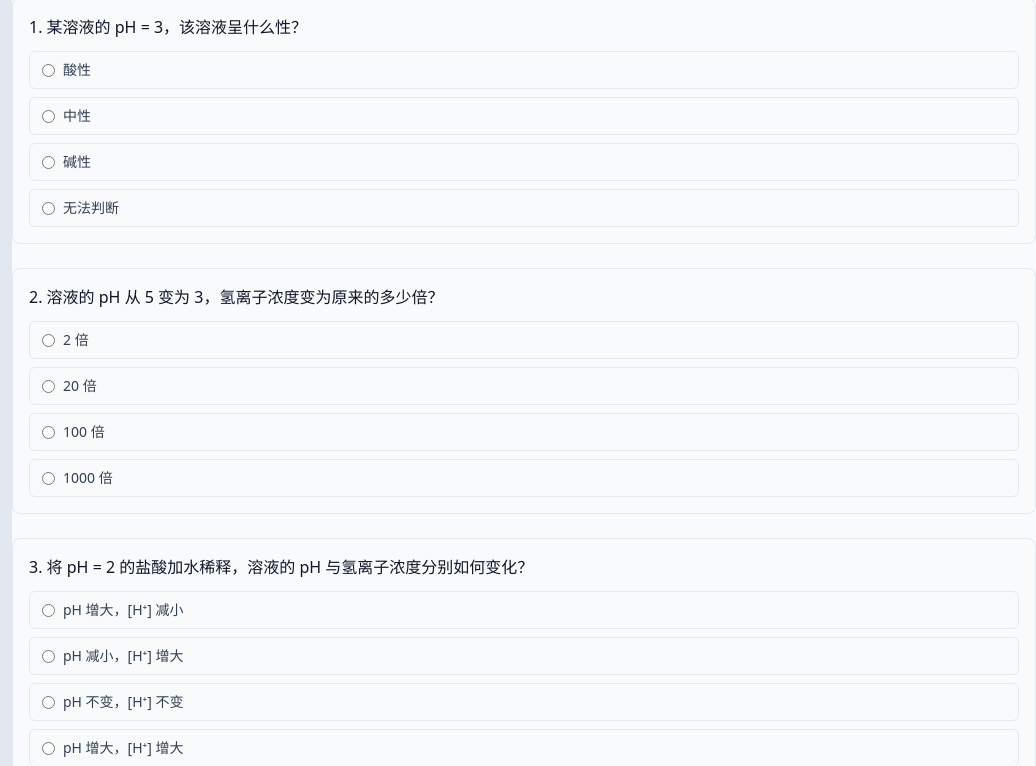
QuizSection 组件 › 全部答对：显示满分、解析，并记录完成状态
The width and height of the screenshot is (1036, 766).
What coordinates should you click on to do the following:
click the radio button labelled "酸性"
I would click on:
 (48, 70)
Its box is [42,64,55,76].
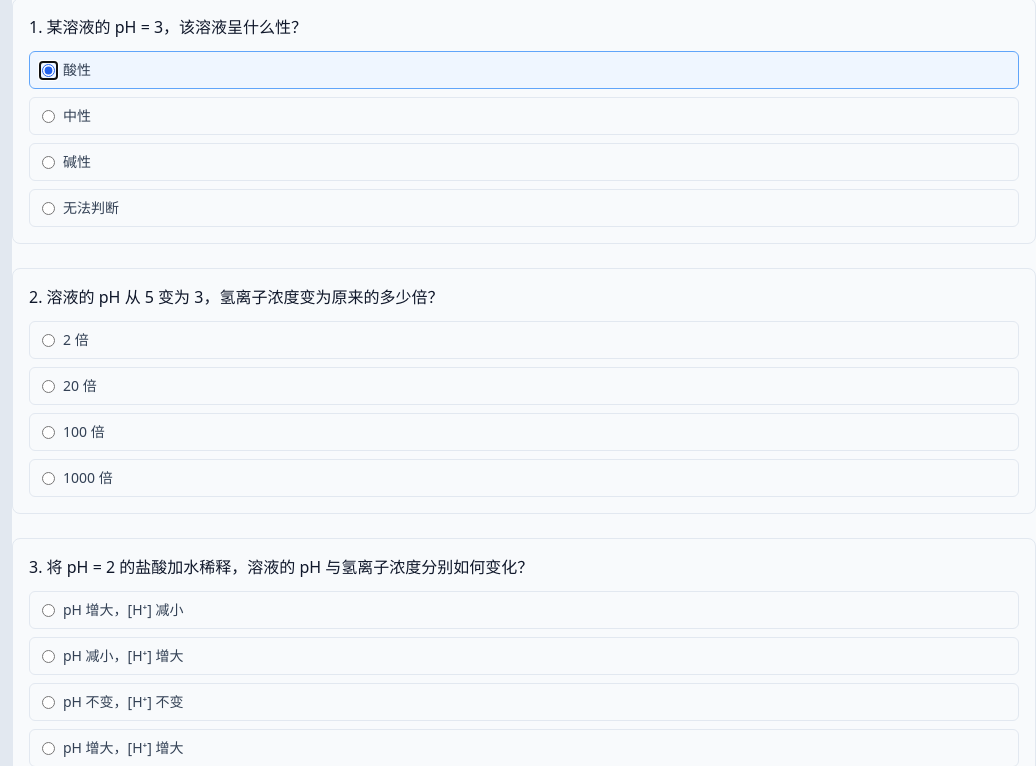
What coordinates should you click on to do the following:
click the radio button labelled "100 倍"
I would click on:
 (48, 432)
Its box is [42,426,55,438].
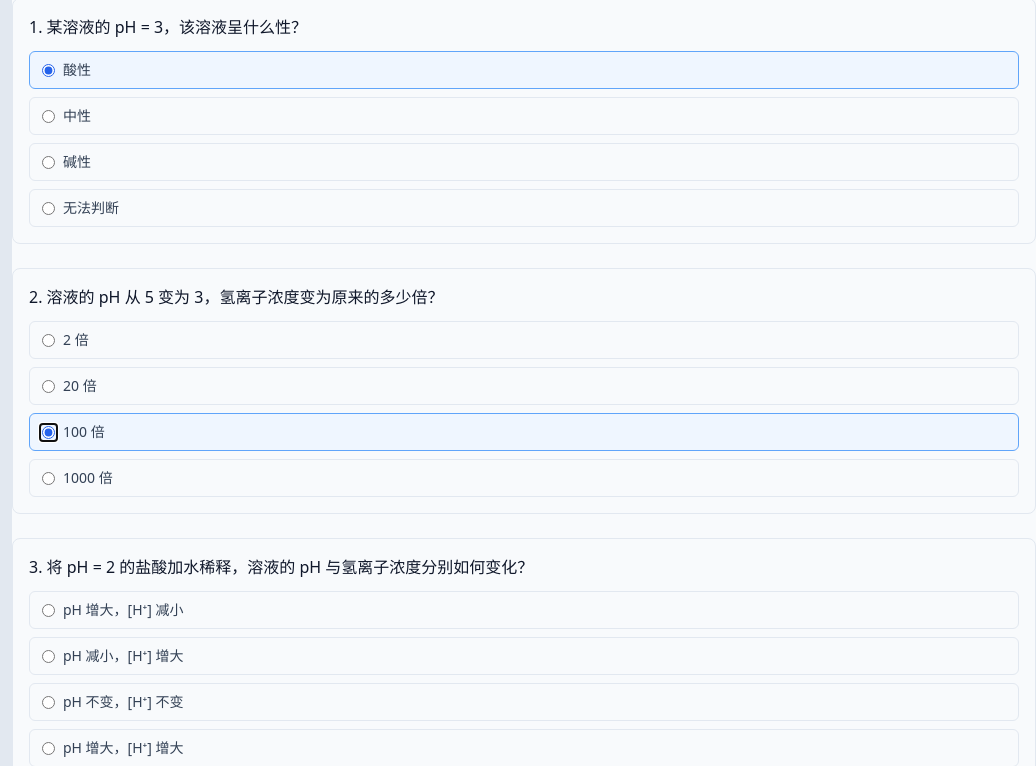
What coordinates should you click on to do the following:
click the radio button labelled "pH 增大，[H⁺] 减小"
I would click on:
 (48, 610)
Its box is [42,604,55,616].
(page scrolled)
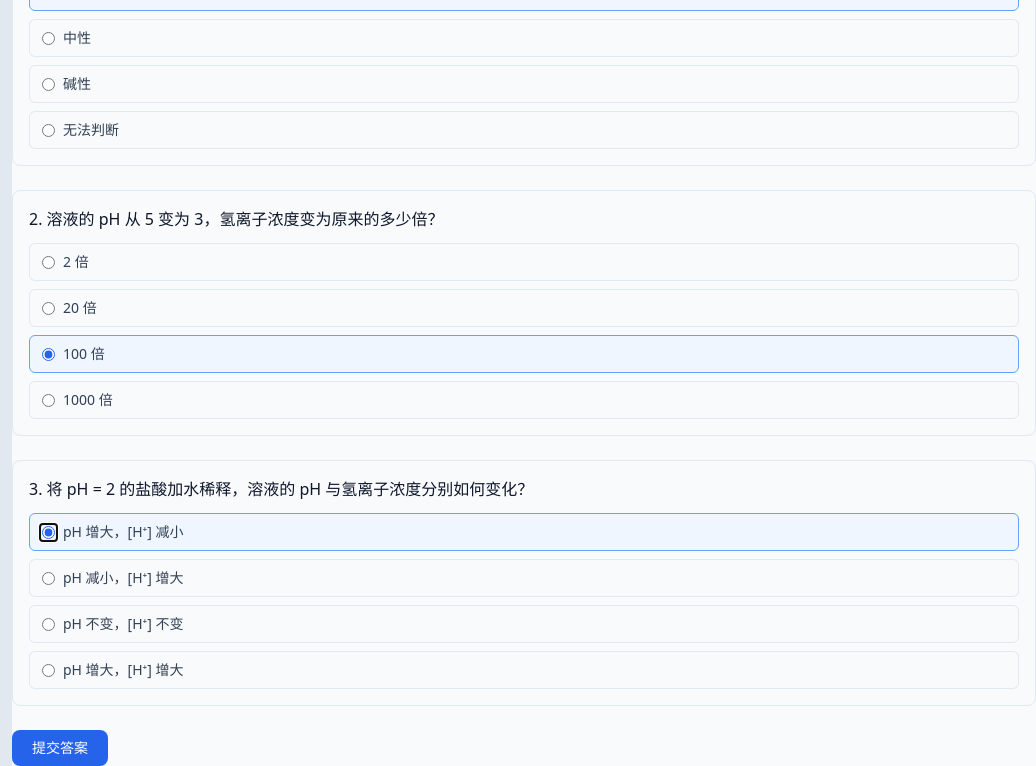
What coordinates should you click on to do the following:
click the button "提交答案"
I would click on:
 (60, 748)
Its box is [12,730,108,765].
(page scrolled)
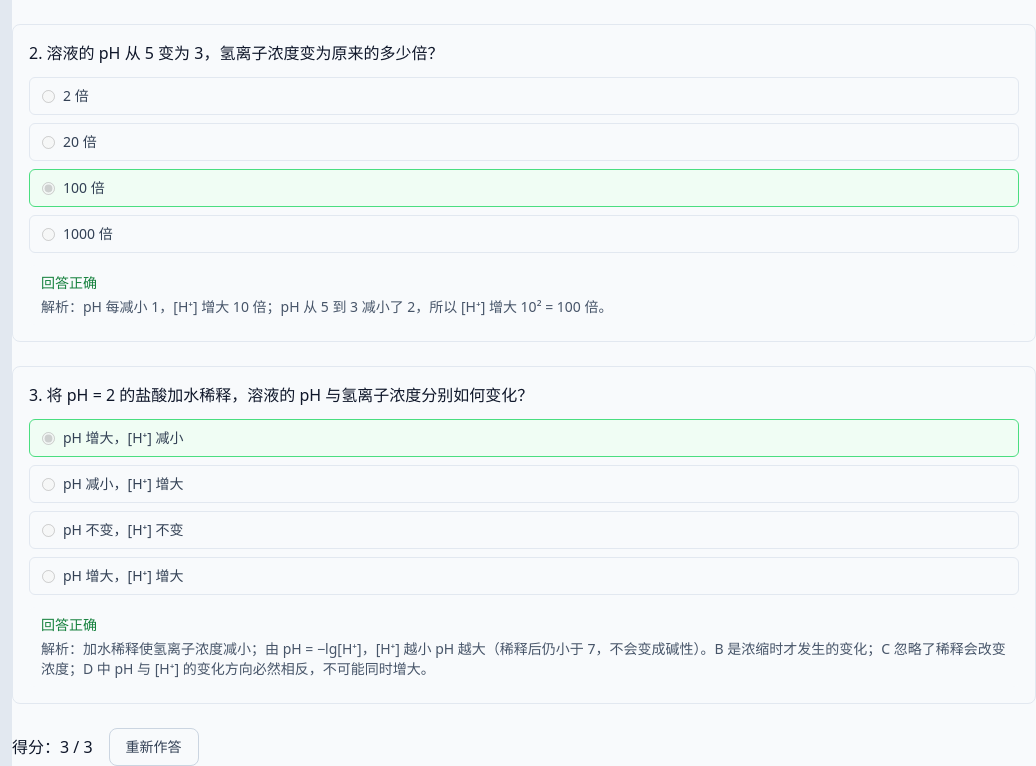
Check: the text "回答正确" is shown 3 times
Check: the text "解析" is shown 3 times
